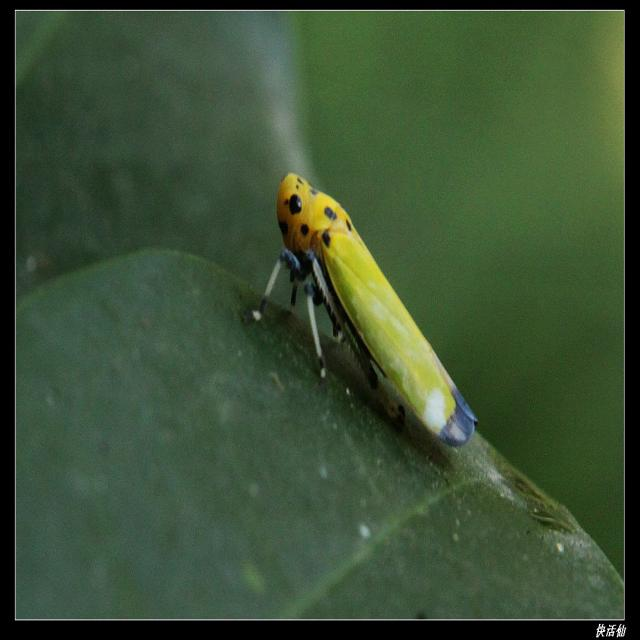Yechan: (270, 164, 485, 460)
